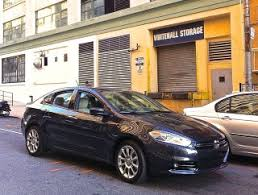car: (21, 88, 228, 185), (179, 89, 258, 159)
